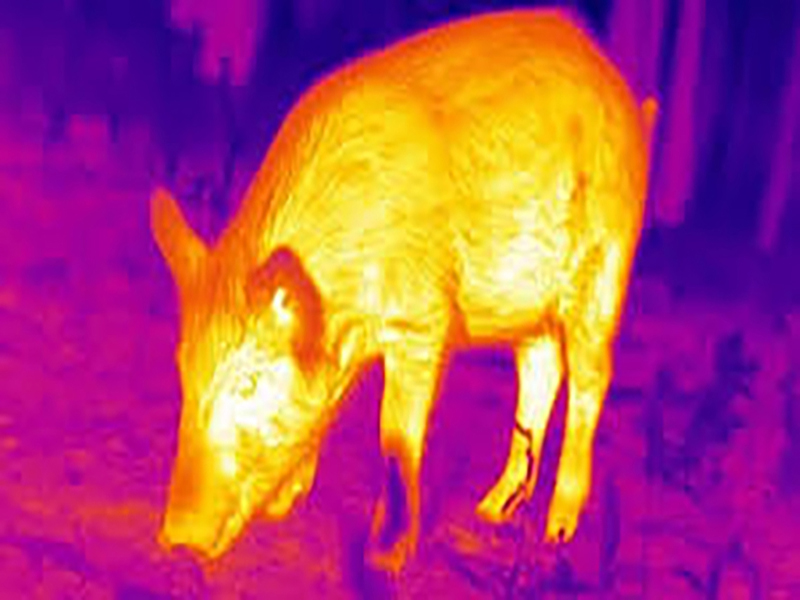cinghiale: (129, 4, 655, 570)
